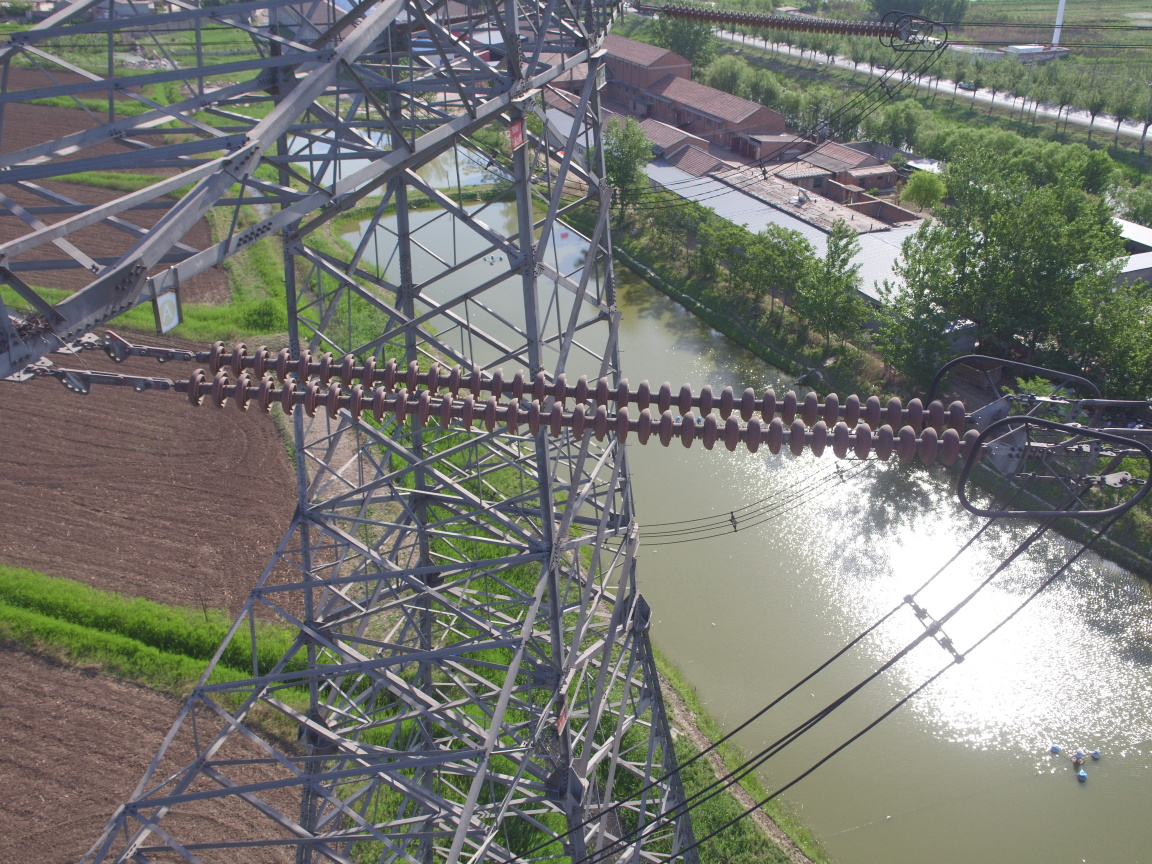insulator: (149, 338, 999, 469), (643, 1, 905, 40)
